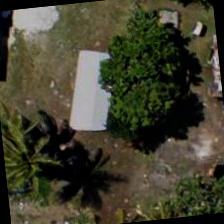Kelapa_Sawit: (0, 110, 77, 206)
